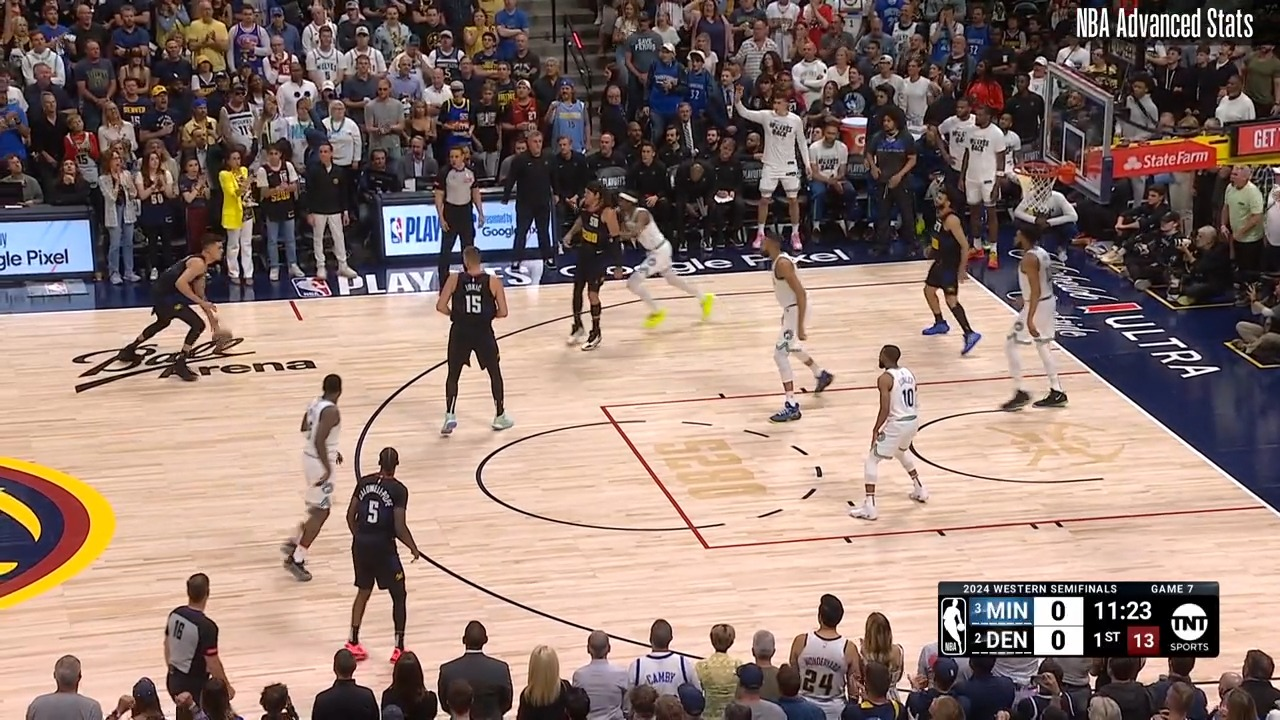basketball: (209, 327, 236, 355)
